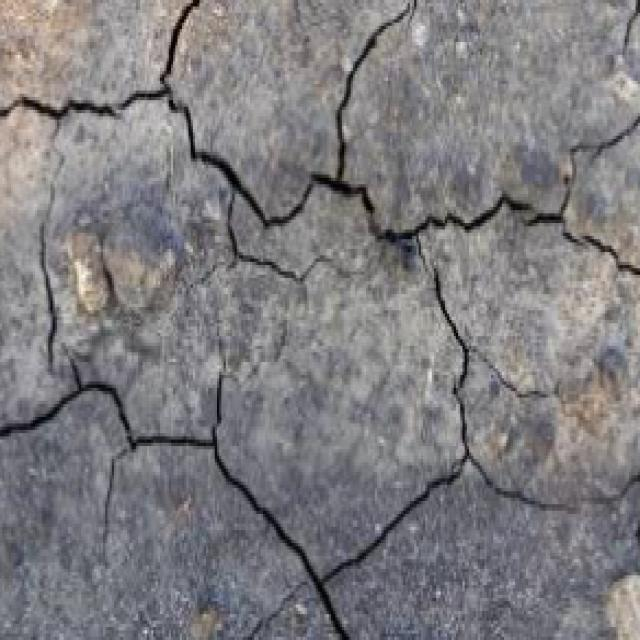network cracks: (0, 0, 639, 639), (521, 112, 639, 279)
